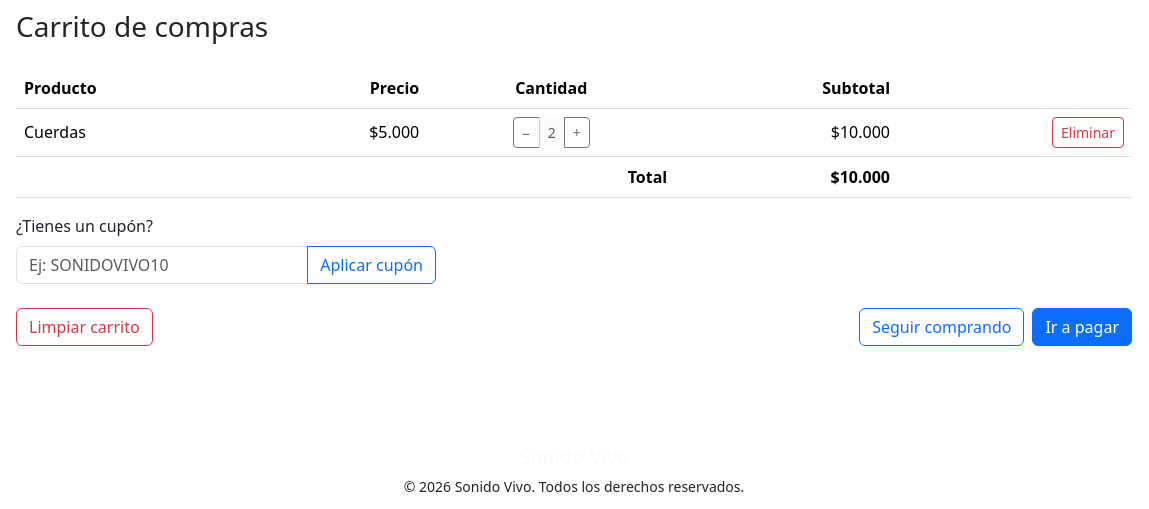
Páginas de la tienda (datos desde la API) › Carrito: la cantidad sube y baja y el total se recalcula; en 0 se elimina
Expected: the column heading with test id "total-carrito" reads "$10.000", top-left (830, 166), bottom-right (890, 188)
Click the button named "Aumentar Cuerdas": (577, 132) top-left (564, 117), bottom-right (590, 148)
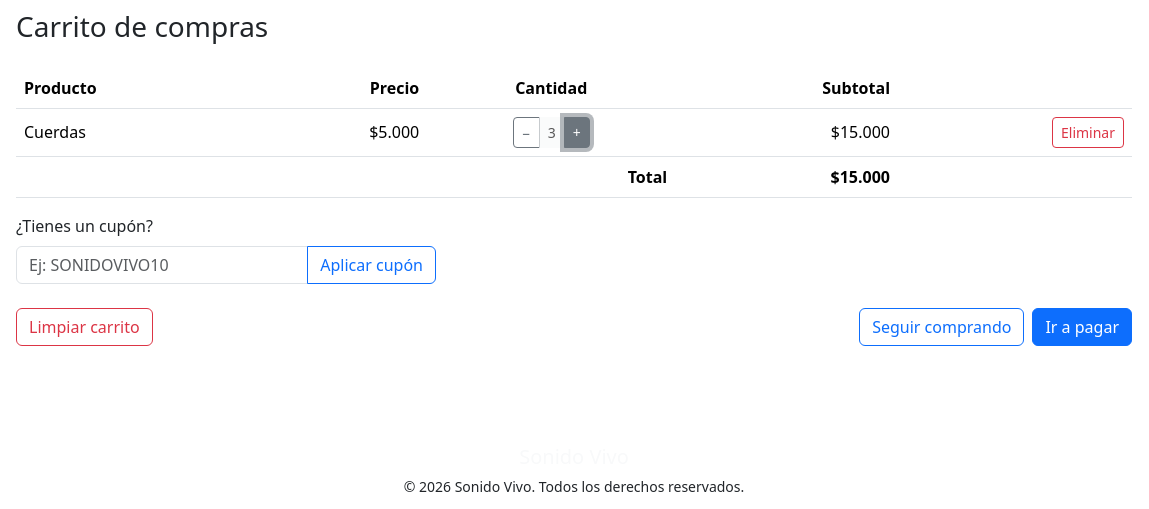
Now the button with test id "cantidad-AC001" reads "3", box top-left (548, 123), bottom-right (556, 142)
Now the column heading with test id "total-carrito" reads "$15.000", box top-left (830, 166), bottom-right (890, 188)
Click the button named "Disminuir Cuerdas": (526, 132) top-left (513, 117), bottom-right (540, 148)
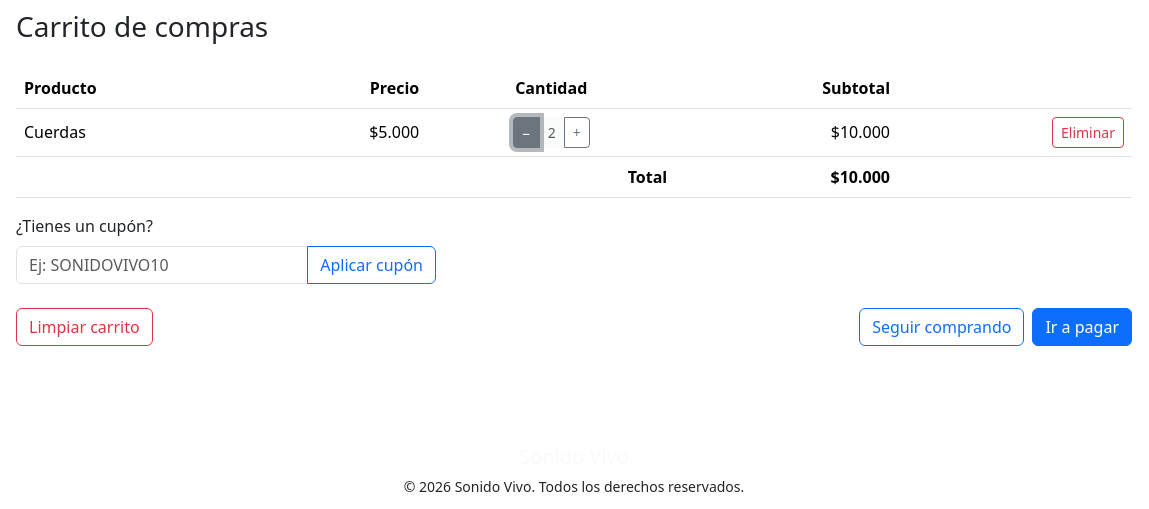
Click the button named "Disminuir Cuerdas": (526, 132) top-left (513, 117), bottom-right (540, 148)
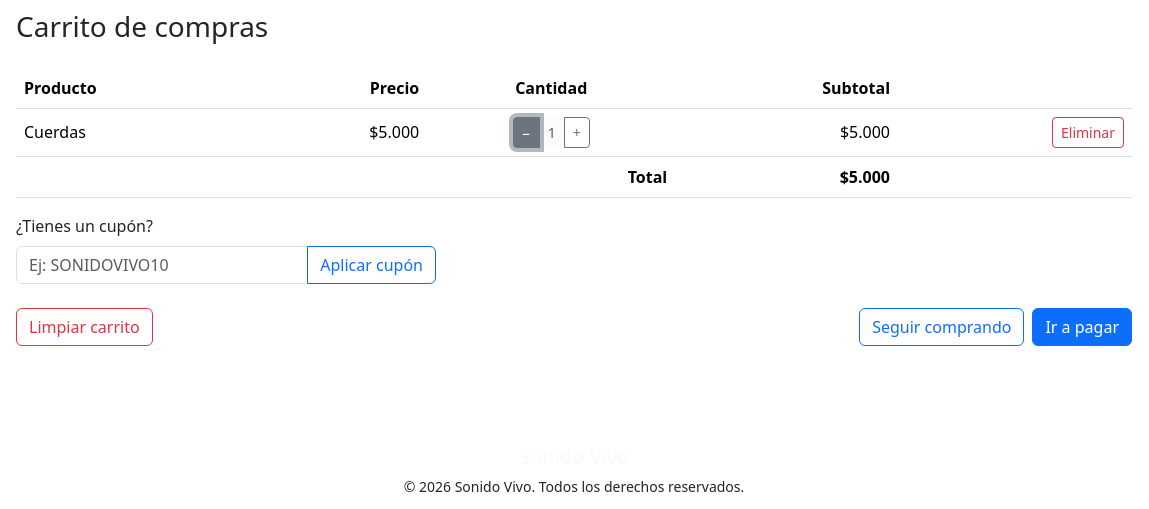
Click the button named "Disminuir Cuerdas": (526, 132) top-left (513, 117), bottom-right (540, 148)
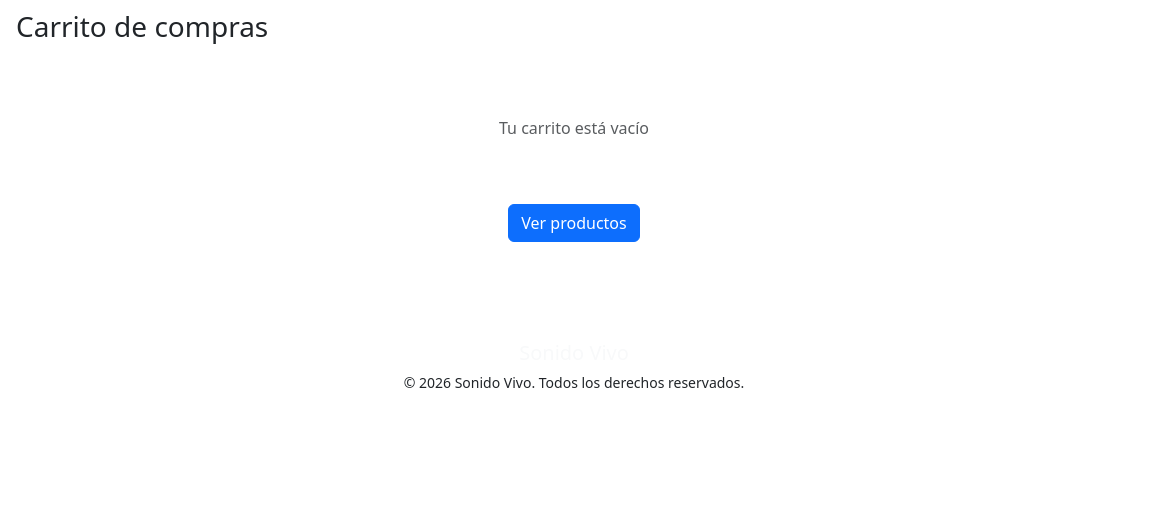
Now the text "Tu carrito está vacío" is shown, box top-left (499, 117), bottom-right (649, 139)
